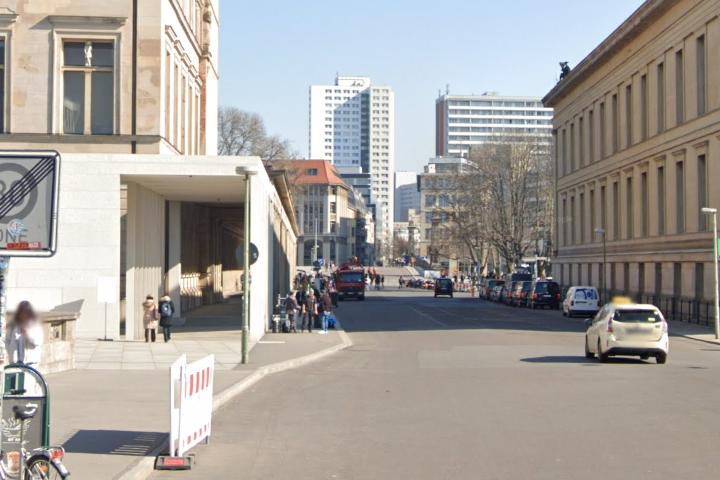vehicle: (575, 298, 679, 367), (556, 283, 603, 317), (332, 266, 370, 303), (524, 279, 561, 310), (430, 275, 457, 298)
